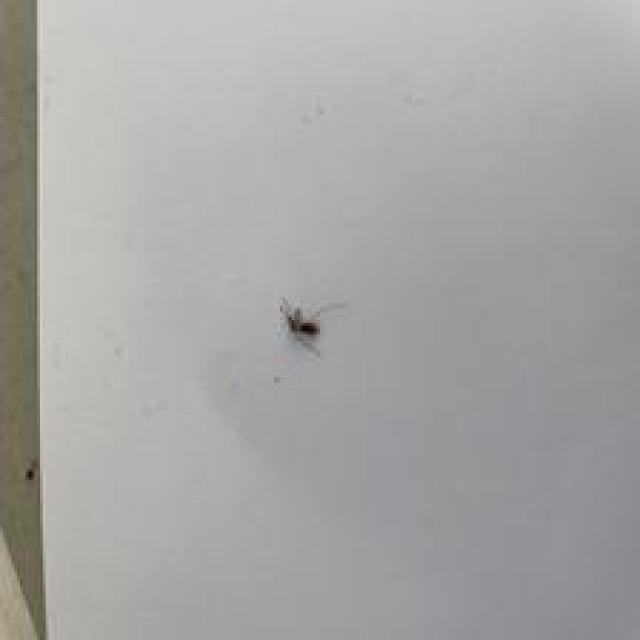Culex: (276, 294, 344, 357)
